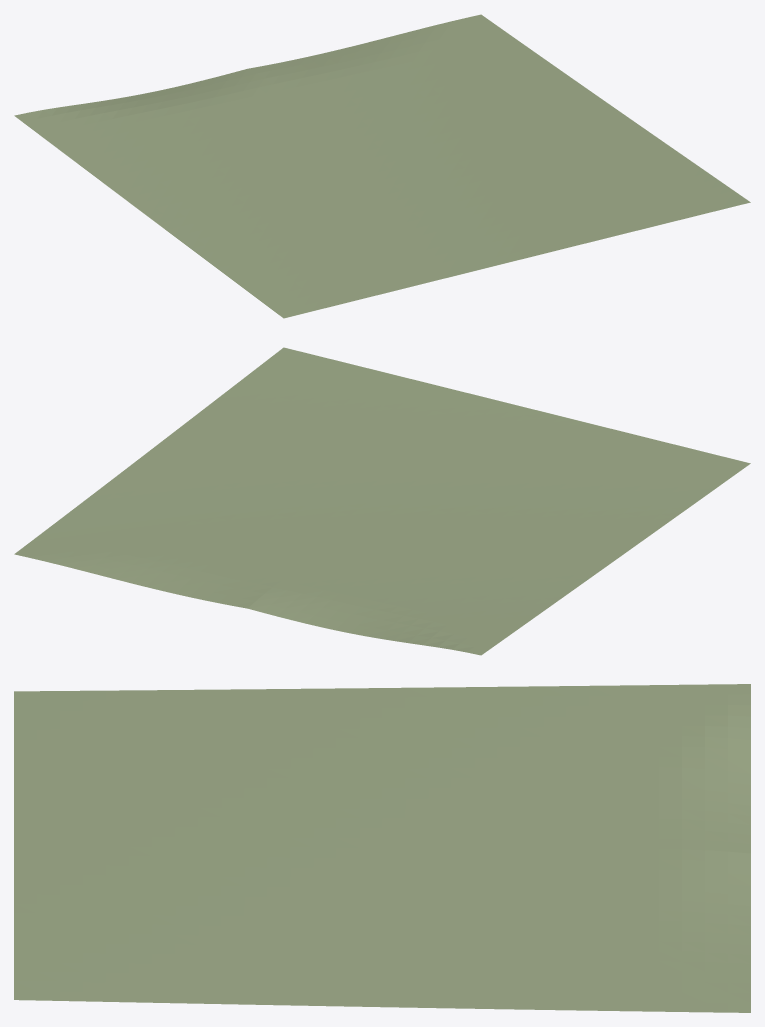
The model's file is gardens-0-7.glb.
3 renders of one model, top to bottom at view 1: azimuth 30°, elevation 25°; view 2: azimuth 150°, elevation 25°; view 3: azimuth 270°, elevation 25°, orthographic. The views are drawn at different scales.
Parts seen in each view (by area): view 1: gardens-0-7; view 2: gardens-0-7; view 3: gardens-0-7.
Part boxes in pixels (x1,y1,x2,y2): gardens-0-7: (14, 14, 750, 318); gardens-0-7: (14, 347, 750, 655); gardens-0-7: (14, 684, 750, 1012).
Size of the model in its own units: 256 by 6.95 by 256.
